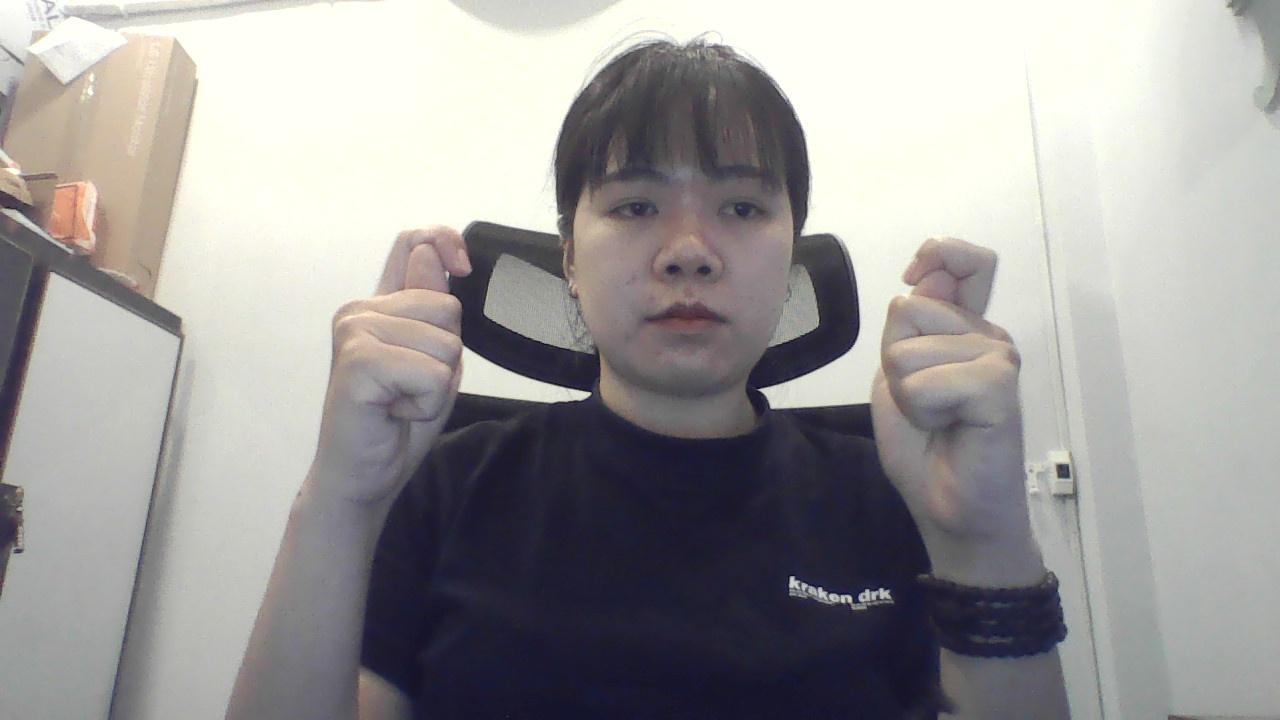X: (854, 202, 1044, 575), (307, 207, 478, 511)
